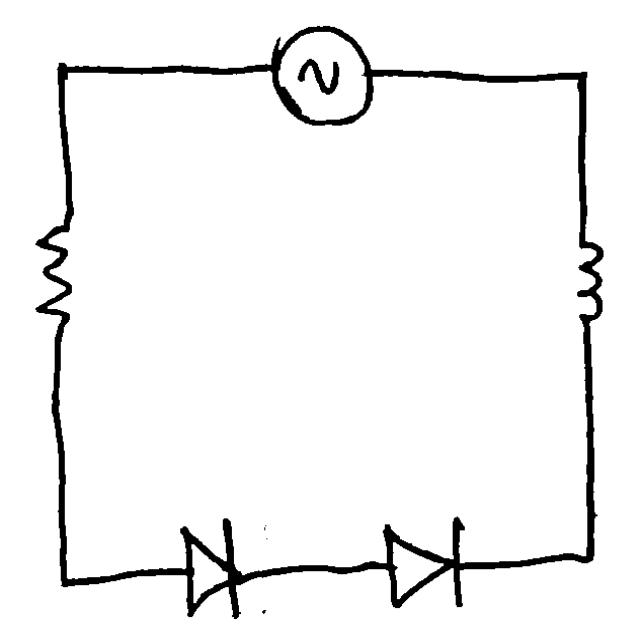ac: (256, 11, 391, 136)
diode: (366, 503, 484, 621), (163, 506, 263, 632)
inductor: (551, 221, 622, 343)
resistor: (25, 197, 95, 348)
